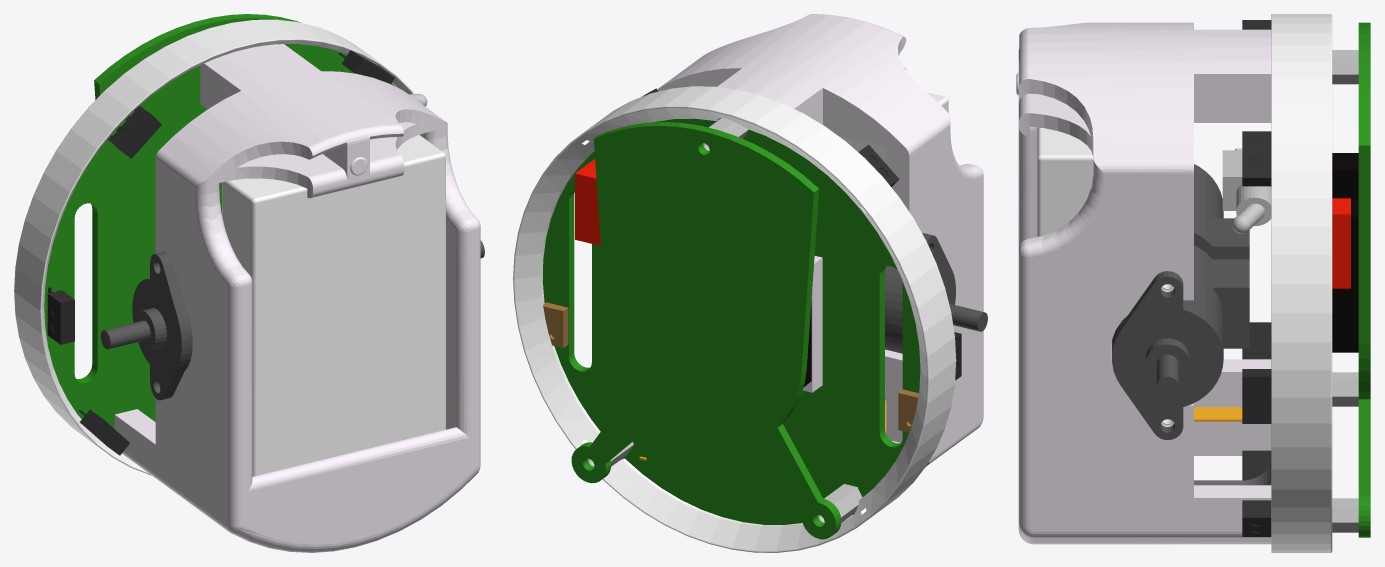
The model's file is epuck_base.dae.
The picture shows the model from 3 angles, left to right: view 1: azimuth 30°, elevation 25°; view 2: azimuth 150°, elevation 25°; view 3: azimuth 270°, elevation 25°; orthographic projection. The views are drawn at different scales.
Parts seen in each view (by area): view 1: node0, node8, node9, node30, node34, node31, node17, node18, node26, node16; view 2: node31, node9, node30, node0, node34, node10, node28, node20, node25, node19, node8, node17; view 3: node0, node30, node35, node31, node8, node34, node23, node32, node10, node16, node13, node33 (+8 smaller).
Part boxes in pixels (x1,y1,x2,y2): node0: (114, 44, 480, 552); node8: (222, 135, 445, 476); node9: (44, 44, 394, 428); node30: (14, 19, 414, 475); node34: (100, 251, 192, 400); node31: (94, 14, 300, 99); node17: (108, 106, 161, 158); node18: (47, 287, 74, 344); node26: (79, 409, 129, 455); node16: (339, 50, 394, 84); node31: (571, 122, 841, 539); node9: (542, 118, 920, 524); node30: (513, 86, 956, 552); node0: (657, 14, 983, 465); node34: (885, 233, 987, 353); node10: (575, 159, 600, 245); node28: (803, 256, 822, 392); node20: (543, 302, 568, 347); node25: (818, 484, 862, 522); node19: (898, 389, 918, 432); node8: (838, 92, 948, 400); node17: (858, 144, 899, 186); node0: (1016, 22, 1271, 544); node30: (1271, 14, 1332, 552); node35: (1112, 245, 1249, 439); node31: (1358, 22, 1370, 537); node8: (1037, 127, 1111, 351); node34: (1194, 164, 1249, 259); node23: (1222, 148, 1271, 233); node32: (1332, 200, 1358, 352); node10: (1332, 198, 1350, 288); node16: (1242, 131, 1271, 186); node13: (1242, 369, 1271, 423); node33: (1332, 153, 1358, 199).
Bounding box in the file's own units: 0.0724 × 0.0475 × 0.0723.
